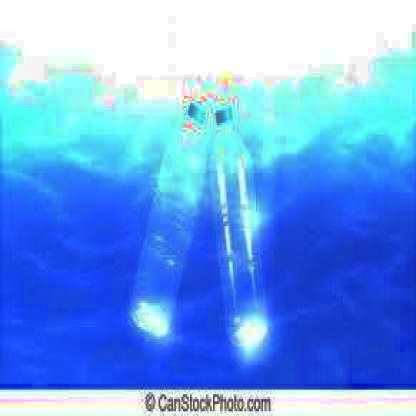pbottle: (130, 82, 210, 346), (206, 96, 274, 349)
